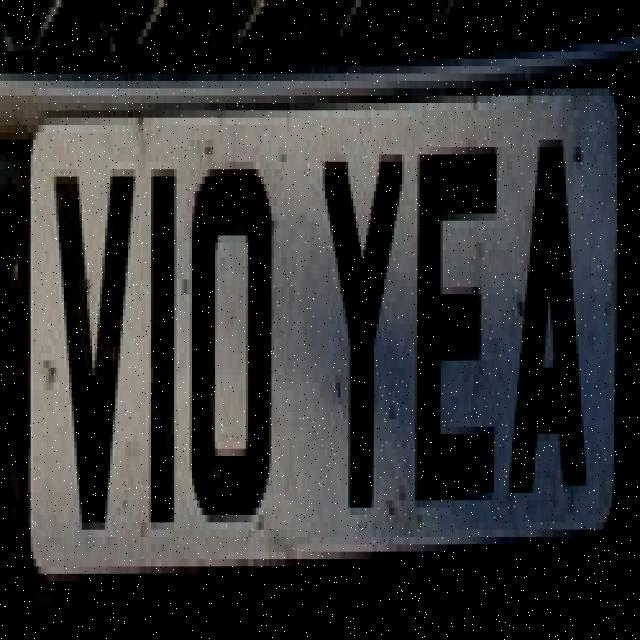licenseplate: (11, 25, 630, 602)
